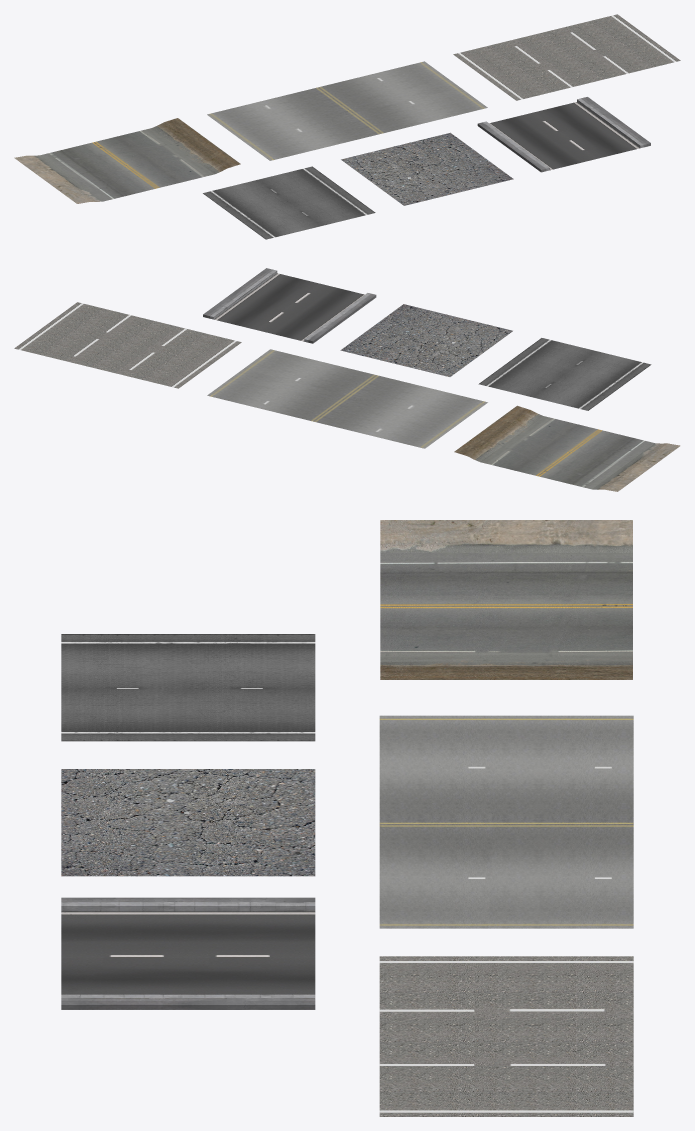
File: low_road_-_2.glb
The picture shows the model from 3 angles, top to bottom: view 1: azimuth 30°, elevation 25°; view 2: azimuth 150°, elevation 25°; view 3: azimuth 270°, elevation 25°; orthographic projection. The views are drawn at different scales.
Parts seen in each view (by area): view 1: Road 1, Road 2, Road 3, Road 5, Road 4, Road 6; view 2: Road 1, Road 2, Road 3, Road 5, Road 4, Road 6; view 3: Road 1, Road 2, Road 3, Road 5, Road 4, Road 6.
Part boxes in pixels (box(x1,y1,x2,y2)): Road 1: box(207, 61, 487, 160); Road 2: box(453, 14, 680, 100); Road 3: box(14, 118, 240, 203); Road 5: box(477, 97, 650, 172); Road 4: box(203, 166, 375, 239); Road 6: box(341, 132, 513, 205); Road 1: box(207, 349, 487, 448); Road 2: box(14, 302, 241, 388); Road 3: box(454, 405, 680, 491); Road 5: box(203, 268, 376, 343); Road 4: box(478, 338, 651, 410); Road 6: box(340, 304, 512, 376); Road 1: box(379, 715, 633, 928); Road 2: box(379, 956, 633, 1116); Road 3: box(380, 520, 632, 679); Road 5: box(61, 897, 315, 1009); Road 4: box(61, 634, 315, 741); Road 6: box(61, 769, 315, 876).
Size of the model in its own units: 21.97 by 0.133 by 9.02.
6 materials, 6 textured.
